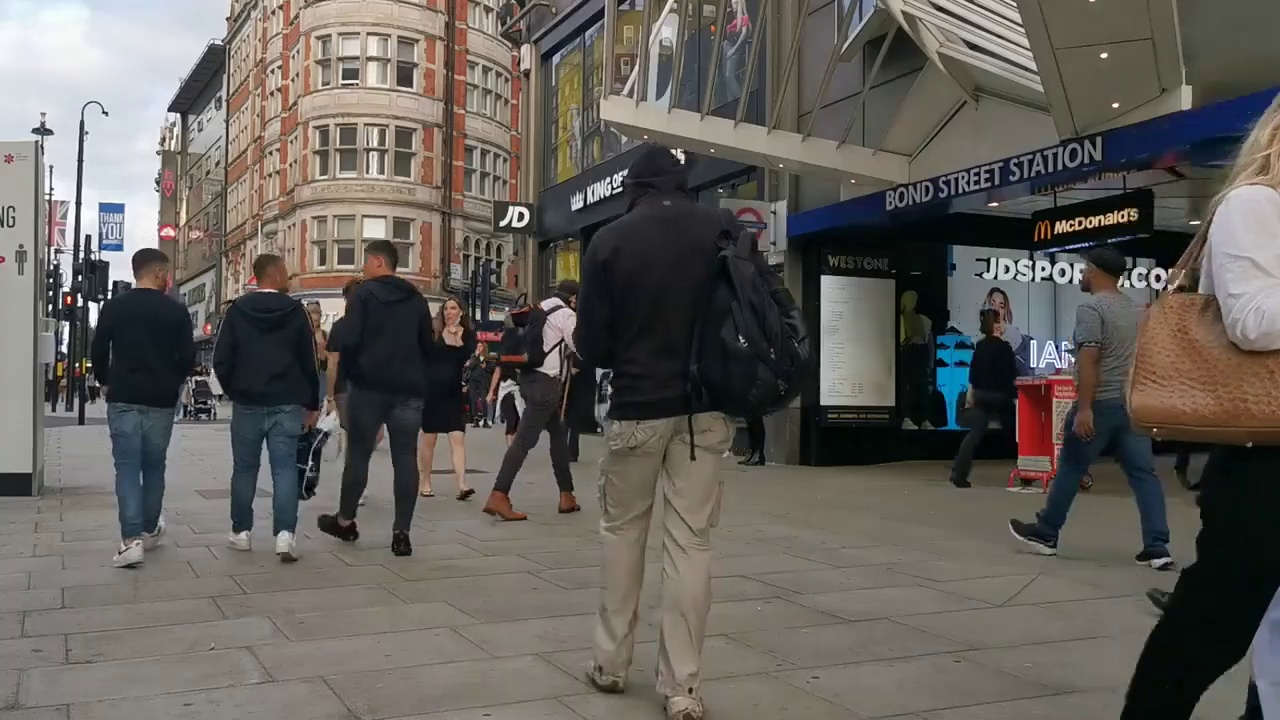female: (1117, 88, 1280, 720), (946, 306, 1038, 494), (412, 295, 476, 502)
male: (572, 141, 757, 720), (1023, 245, 1176, 574), (88, 244, 199, 572), (209, 251, 324, 567), (327, 233, 436, 562), (479, 276, 583, 526)
